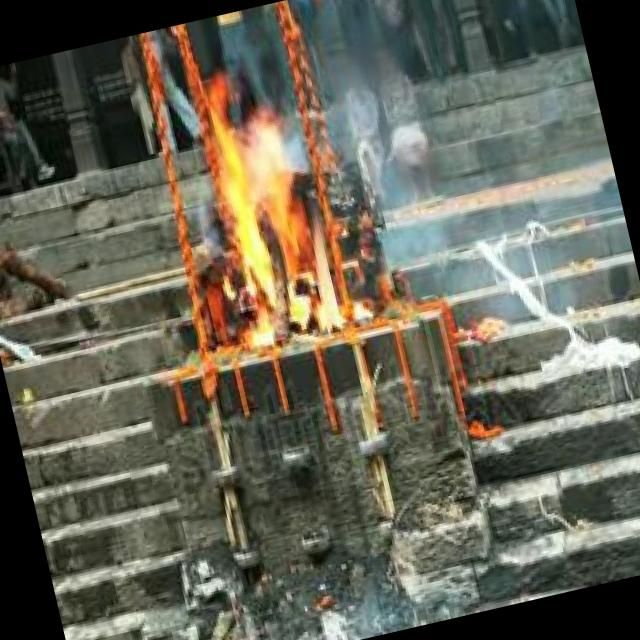Fire: (188, 65, 355, 358)
